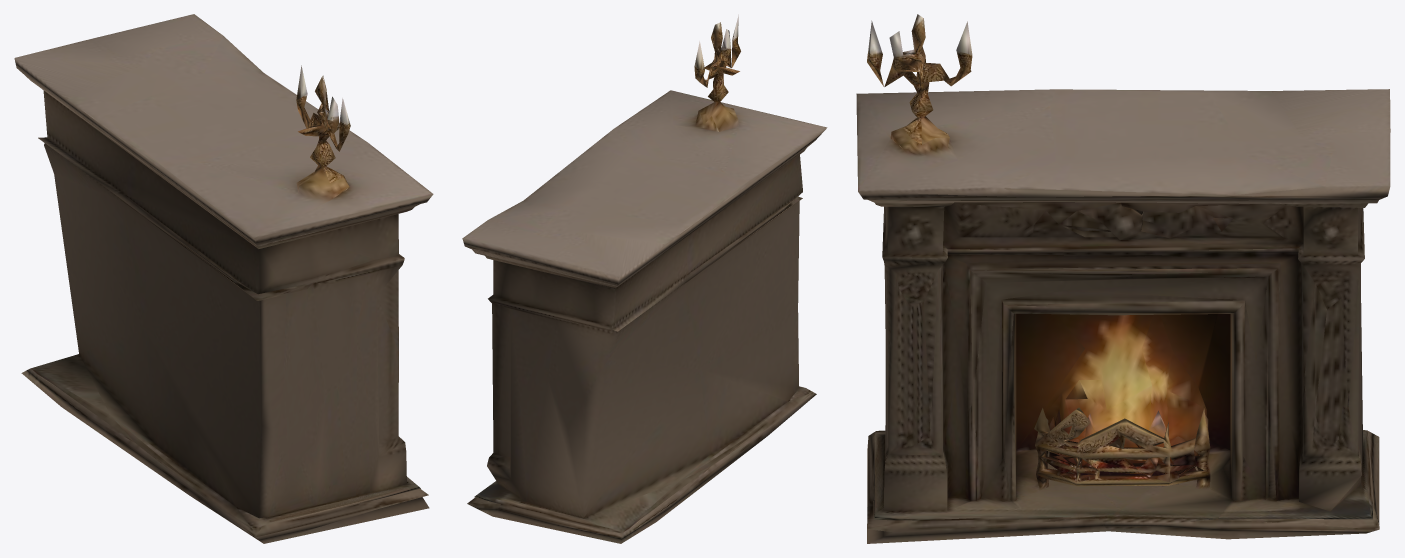
The model's file is fireplace.glb.
3 renders of one model, left to right at view 1: azimuth 30°, elevation 25°; view 2: azimuth 150°, elevation 25°; view 3: azimuth 270°, elevation 25°, orthographic. The views are drawn at different scales.
Parts seen in each view (by area): view 1: tripo_node_cea94066-686f-40bd-8700-50e716555d41; view 2: tripo_node_cea94066-686f-40bd-8700-50e716555d41; view 3: tripo_node_cea94066-686f-40bd-8700-50e716555d41.
Boxes of the visible parts, x1=… form: tripo_node_cea94066-686f-40bd-8700-50e716555d41: x1=14, y1=14, x2=433, y2=543; tripo_node_cea94066-686f-40bd-8700-50e716555d41: x1=462, y1=14, x2=827, y2=543; tripo_node_cea94066-686f-40bd-8700-50e716555d41: x1=856, y1=14, x2=1390, y2=543.
Bounding box in the file's own units: 0.4155 × 0.9531 × 0.953.
Materials: 1 (1 with a texture image).
